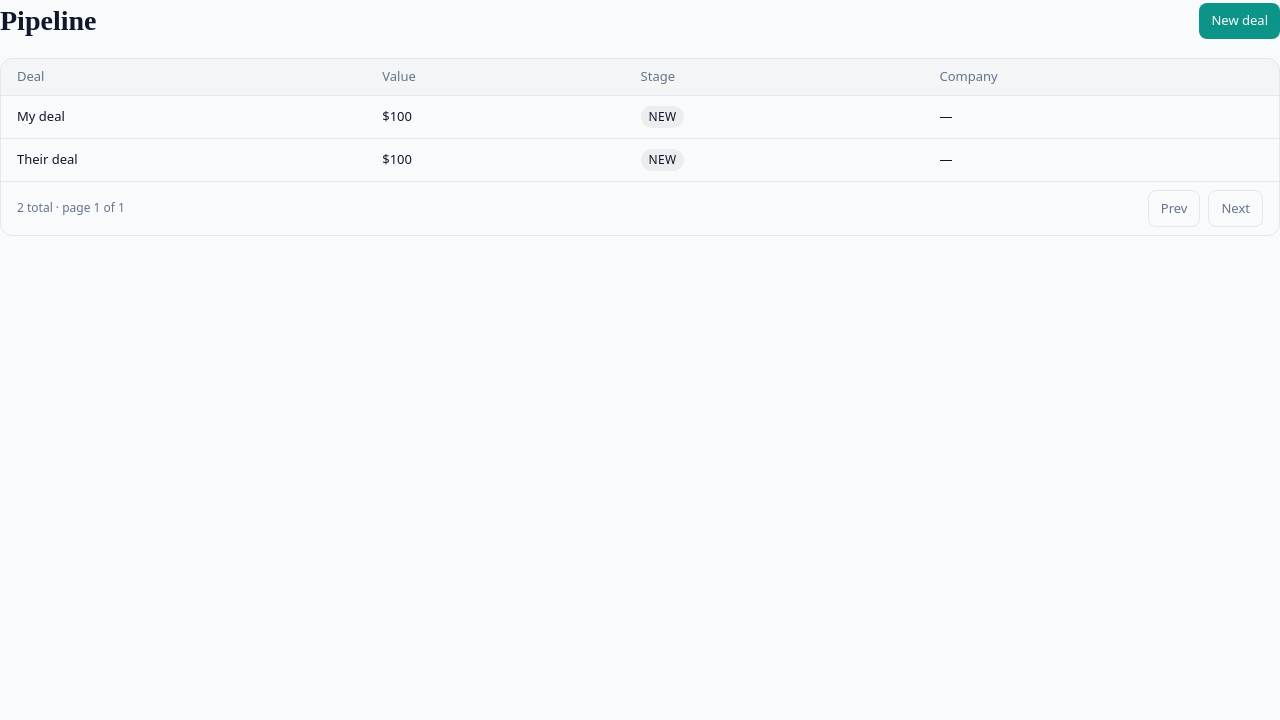
Test: deal edit dialog › is editable for a member on their own record
Click the text "My deal". click: (41,116)
box: [1,95,366,138]
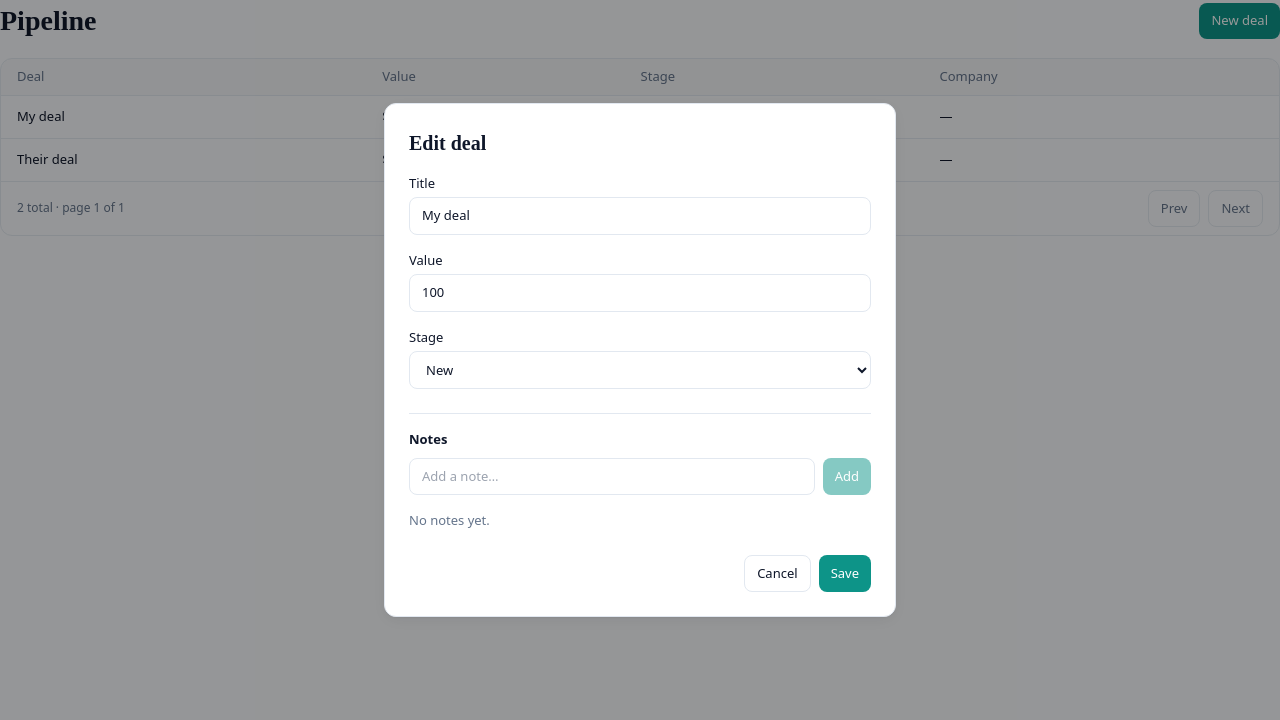
Expected: the button "Save" is enabled, [819,555,871,592]
